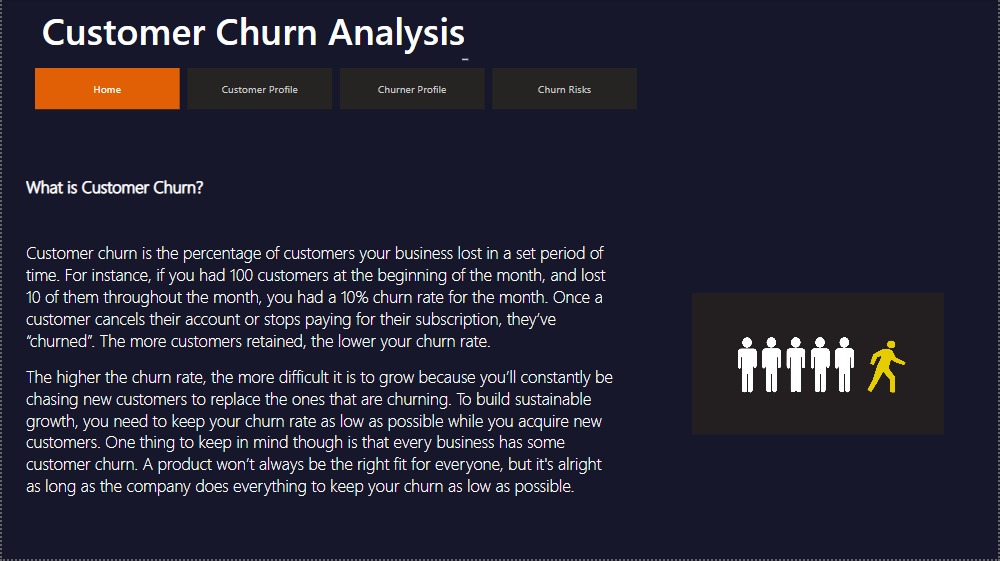

This screenshot's page, from the dashboard's own definition file:
{"tool":"powerbi","page":{"name":"Home","canvas":[1280,720],"ordinal":0},"visuals":[{"type":"textbox","title":"Customer Churn Analysis","box":[42.6,8.2,561.7,75.5],"z":0},{"type":"pageNavigator","box":[42.6,89.3,774.6,53.6],"z":1000},{"type":"textbox","box":[26.1,184,773.2,535.6],"z":2000},{"type":"shape","box":[862.5,310.4,353,314.5],"z":2500},{"type":"image","box":[881.7,340.6,333.7,255.5],"z":3001}]}

Visuals, with their boxes in screenshot pixels (x1, y1, x2, y2), scaled from the page's 1280x720 canvas onto the 1000x561 screenshot:
"Customer Churn Analysis" textbox: 33,6,472,65
pageNavigator: 33,70,638,111
textbox: 20,143,624,560
shape: 674,242,950,487
image: 689,265,950,464
